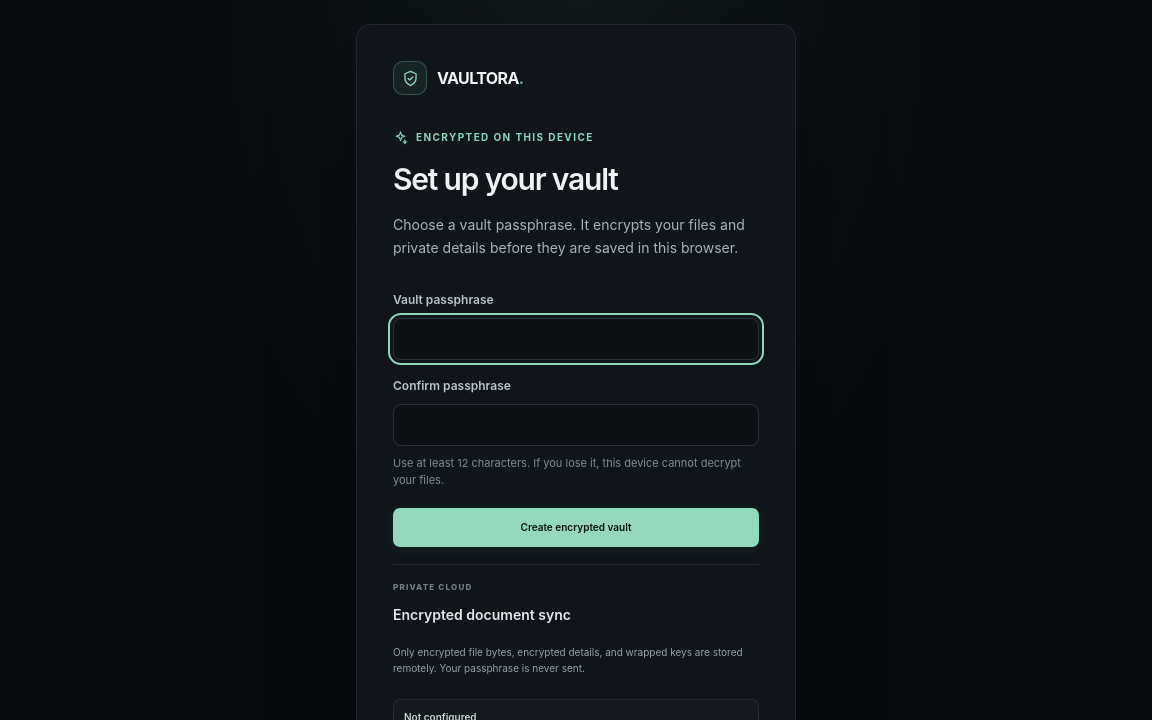
Test: VAULTORA Phase 1 app › creates an empty encrypted local vault and shows real zero states without fabricated data
Check: the heading "Set up your vault" is shown, box [393,161,618,197]
Type "correct horse battery staple" into the password field labelled "Vault passphrase" at (576, 339), box [393,318,759,360]
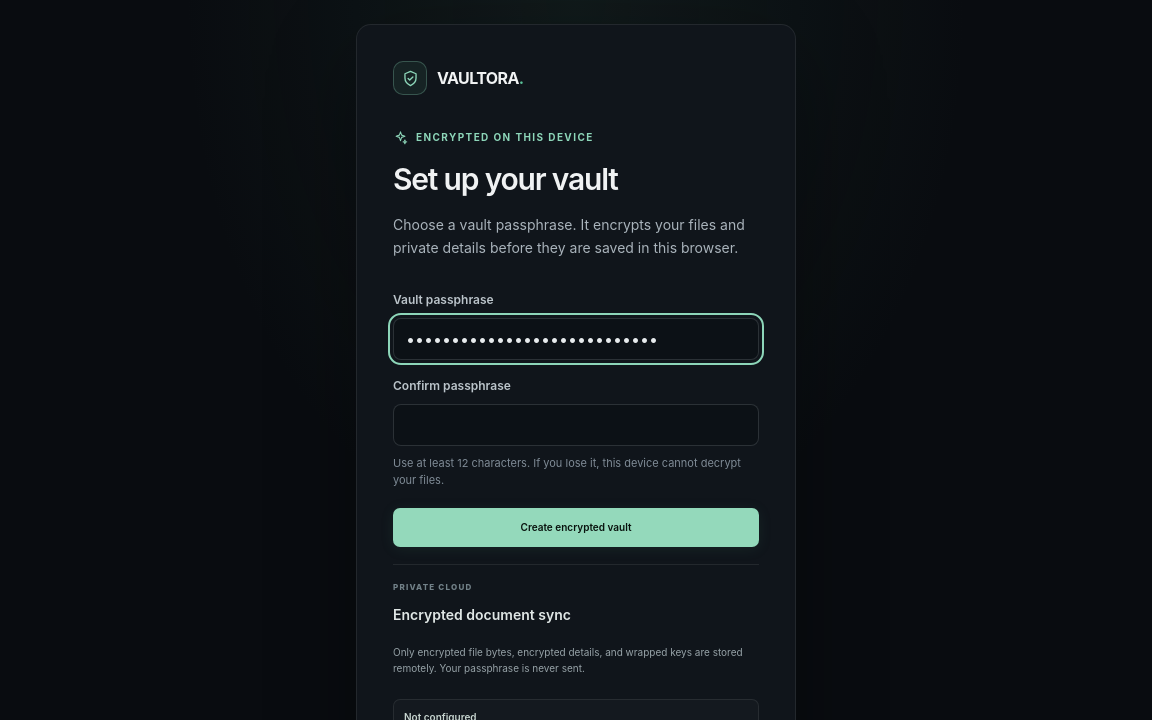
Type "correct horse battery staple" into the password field labelled "Confirm passphrase" at (576, 425), box [393,404,759,446]
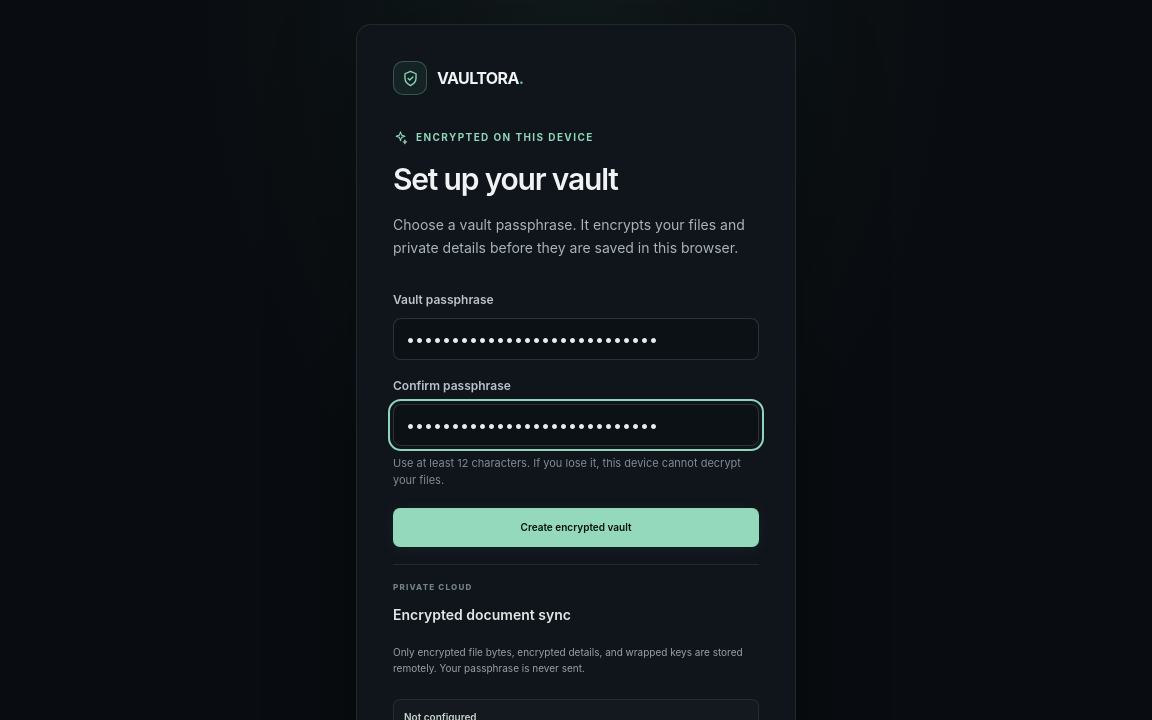
Click the button "Create encrypted vault" at (576, 528), box [393,508,759,547]
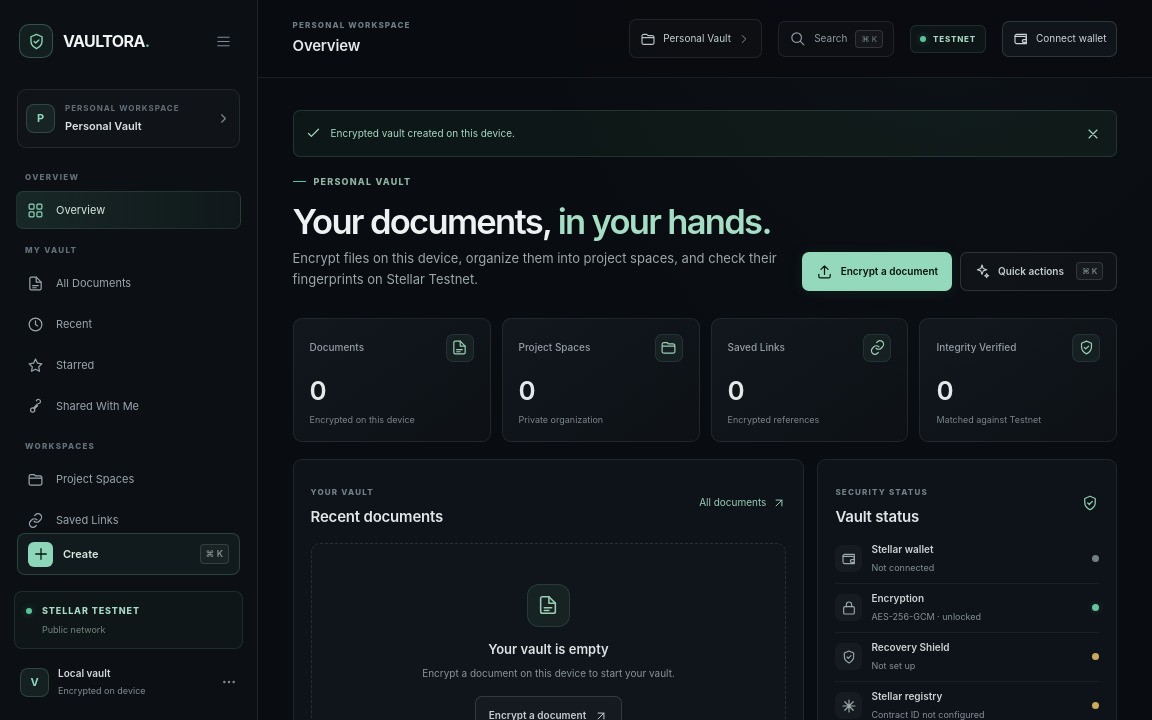
Check: the heading "Your documents, in your hands." is shown, box [292,202,778,240]
Check: the text "Encrypted on this device" is shown, box [310,414,415,425]
Check: the heading "Your vault is empty" is shown, box [488,640,609,659]
